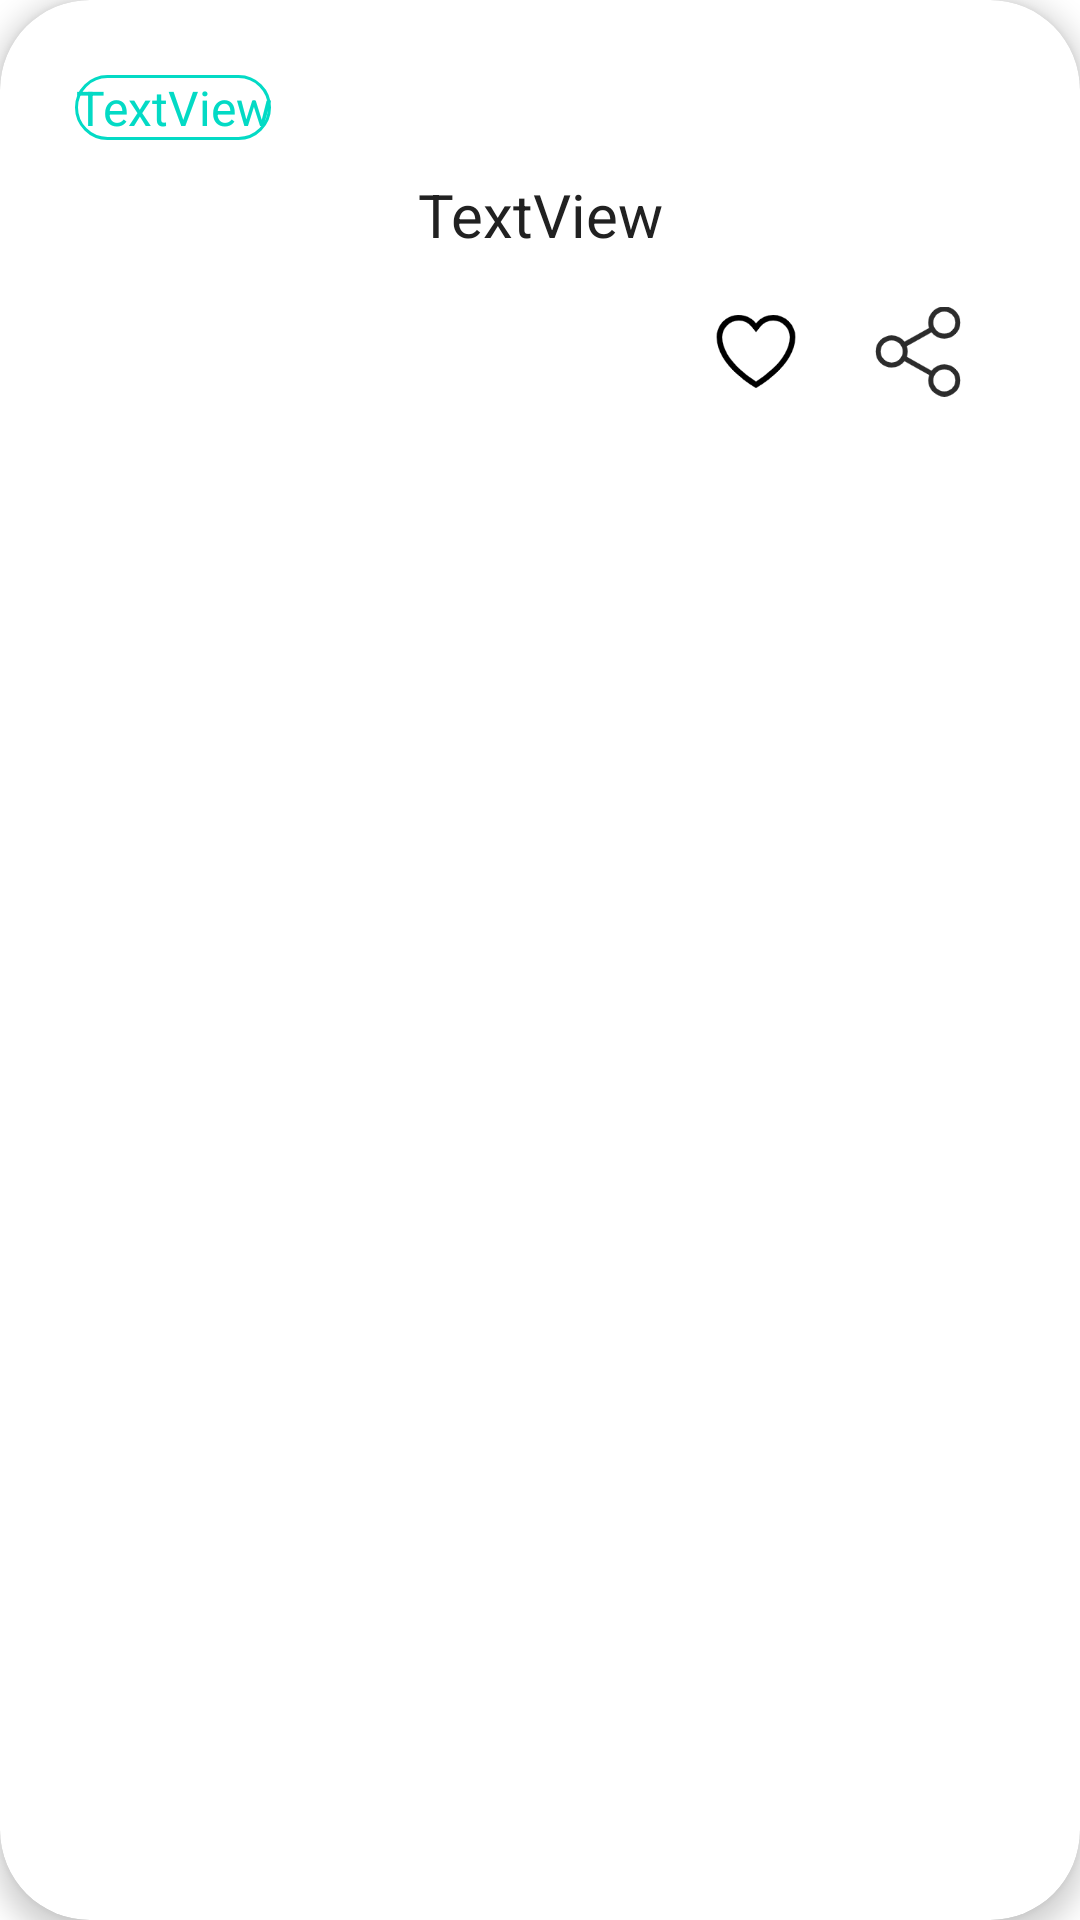

Where icons sit on this 1080x1920 app screen, as box(x1, y1, x2, y2):
heart blank: box(716, 315, 796, 388)
share: box(875, 307, 961, 397)
